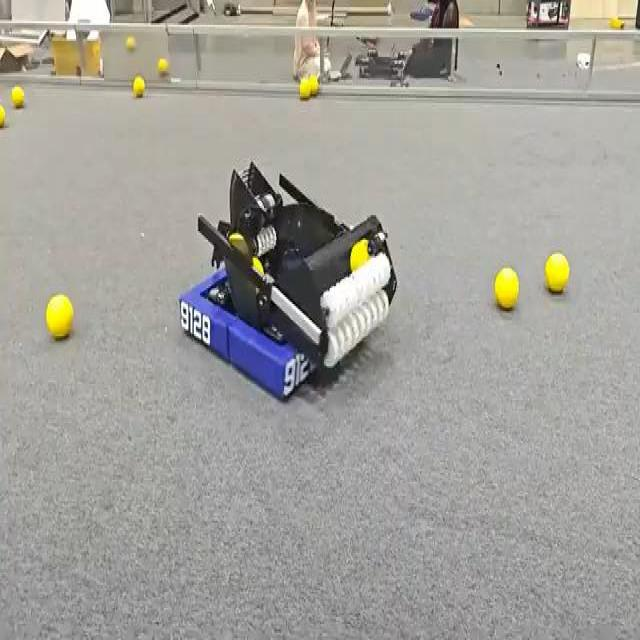Fuel: (45, 293, 73, 338), (46, 294, 72, 339), (494, 267, 519, 310), (544, 253, 570, 293), (494, 268, 518, 308), (545, 252, 569, 292), (350, 239, 370, 272), (350, 238, 369, 270), (228, 233, 247, 255), (11, 85, 24, 107), (11, 85, 23, 107), (133, 76, 145, 97), (251, 257, 264, 276), (132, 76, 144, 96), (299, 78, 310, 98), (300, 78, 310, 99), (157, 57, 168, 75), (157, 57, 168, 74), (609, 17, 624, 29), (309, 75, 318, 94), (310, 76, 318, 96), (0, 104, 6, 128), (126, 36, 136, 50), (126, 36, 135, 50), (620, 21, 625, 29)
